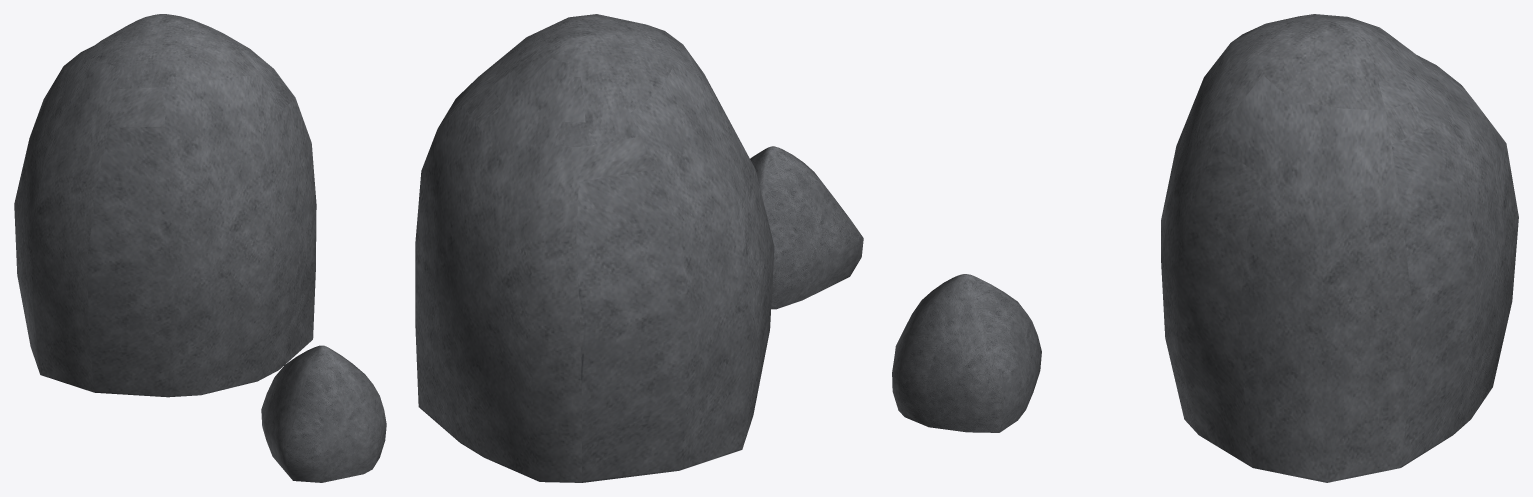
File: taslar.obj
3 views of the same model, side by side, from view 1: azimuth 30°, elevation 25°; view 2: azimuth 150°, elevation 25°; view 3: azimuth 270°, elevation 25° (orthographic). The views are drawn at different scales.
Visible parts, largest first — view 1: Cone001, Cone002; view 2: Cone001, Cone002; view 3: Cone001, Cone002.
Part boxes in pixels (box(x1,y1,x2,y2)): Cone001: box(14, 14, 316, 397); Cone002: box(261, 345, 386, 482); Cone001: box(415, 14, 774, 482); Cone002: box(750, 146, 863, 309); Cone001: box(1161, 14, 1518, 482); Cone002: box(892, 274, 1041, 432).
Bounding box in the file's own units: 215 × 240 × 361.
